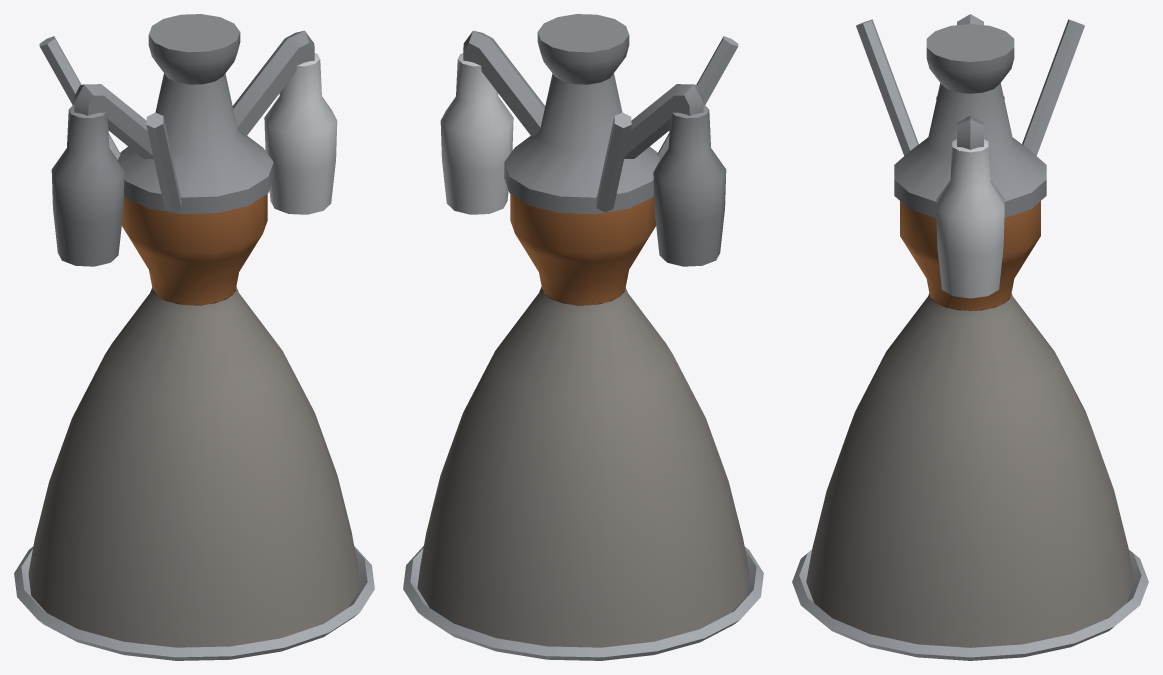
The model's file is engine_s_lod.glb.
3 renders of one model, left to right at view 1: azimuth 30°, elevation 25°; view 2: azimuth 150°, elevation 25°; view 3: azimuth 270°, elevation 25°, orthographic.
Parts seen in each view (by area): view 1: engine_lod; view 2: engine_lod; view 3: engine_lod.
Part boxes in pixels (x1=…): engine_lod: x1=14, y1=14, x2=374, y2=660; engine_lod: x1=403, y1=14, x2=763, y2=660; engine_lod: x1=792, y1=14, x2=1148, y2=660.
Bounding box in the file's own units: 0.9801 × 1.65 × 0.9801.
